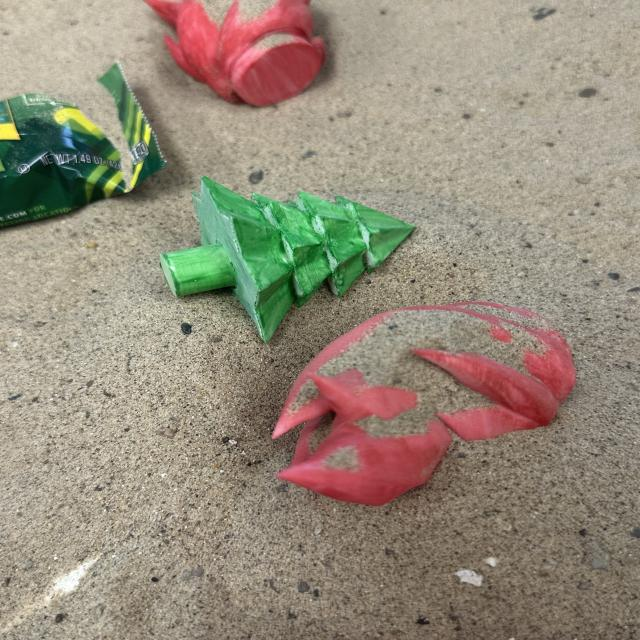fire: (269, 300, 577, 507), (142, 0, 328, 108)
tree: (158, 174, 417, 343)
